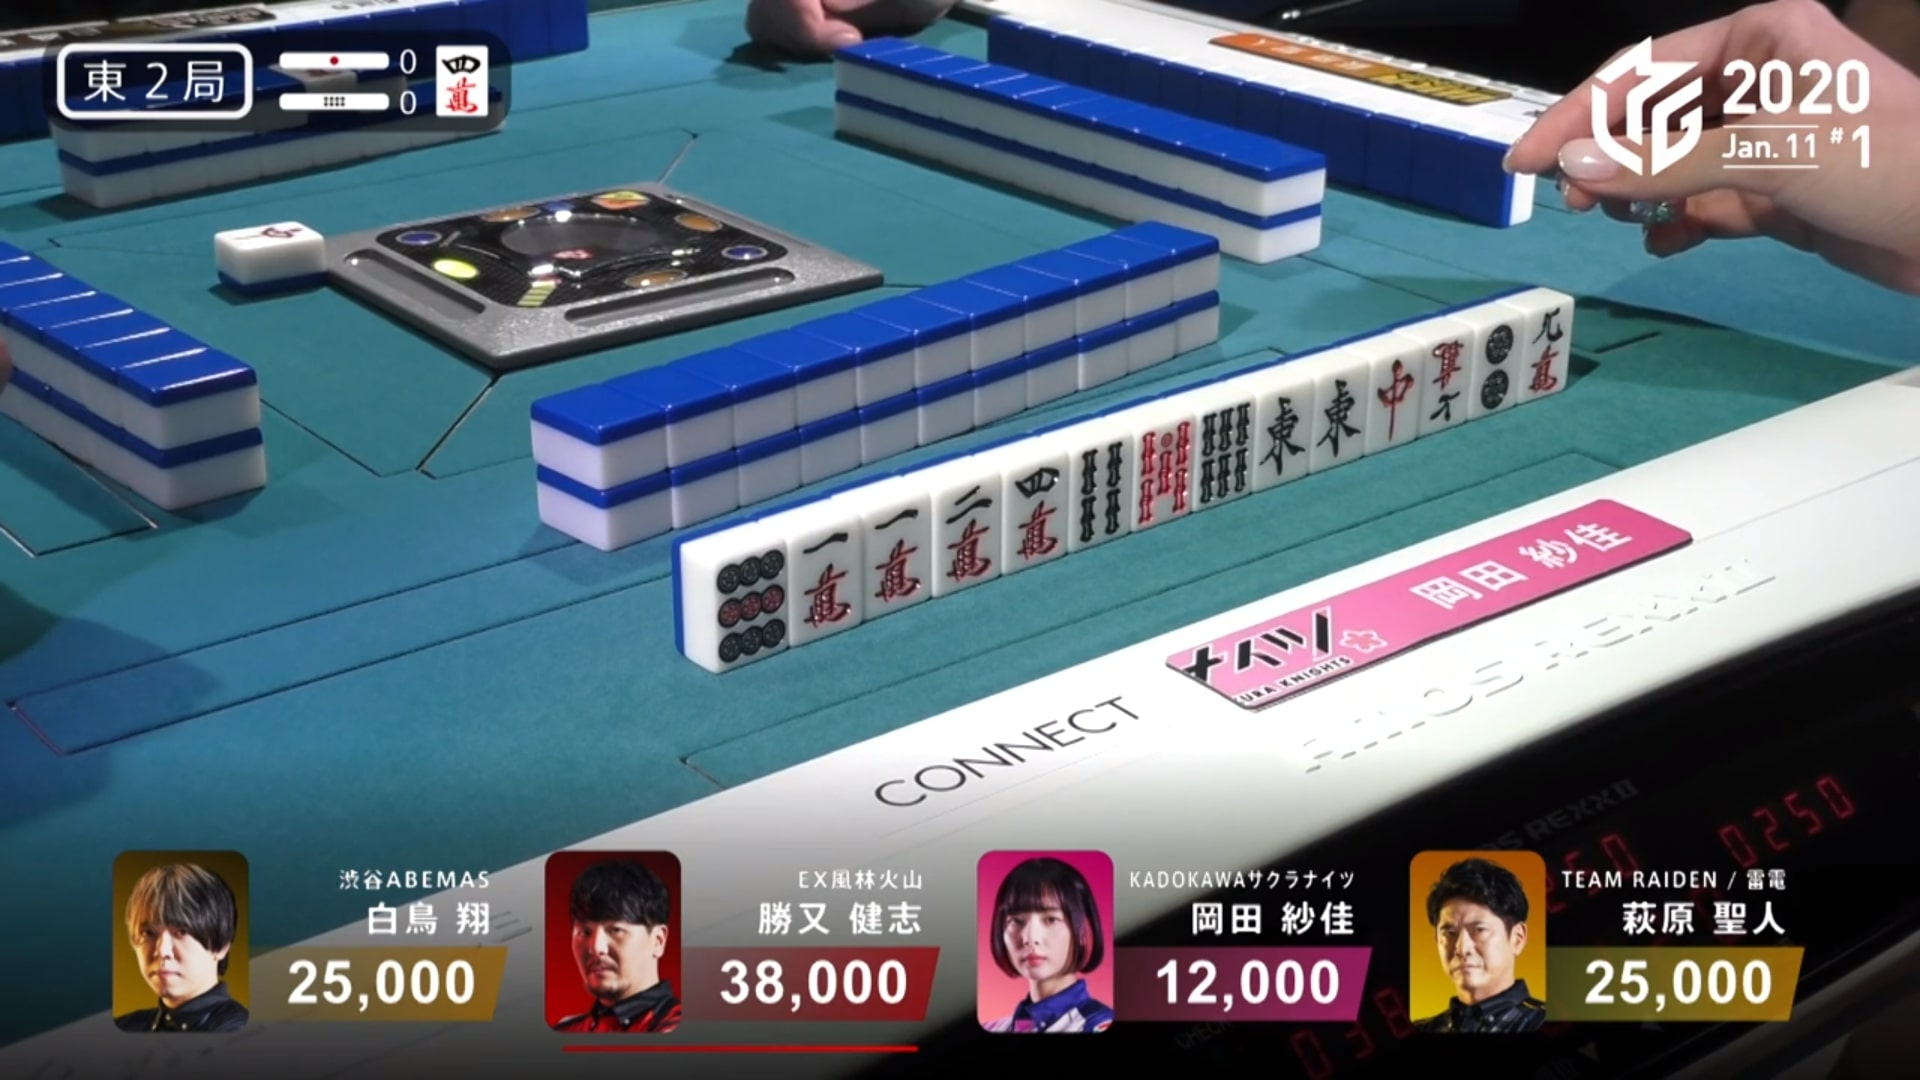1m: (793, 522, 864, 632), (865, 493, 924, 604)
2m: (935, 477, 1000, 587)
2p: (1466, 316, 1516, 410)
4m: (1000, 460, 1065, 564)
4s: (1065, 439, 1131, 546)
5sr: (1135, 417, 1189, 524)
6s: (1193, 401, 1250, 506)
7m: (1423, 328, 1466, 430)
9m: (1520, 303, 1571, 400)
9p: (705, 546, 789, 659)
chun: (1367, 349, 1415, 447)
hand_ton_2: (50, 38, 262, 125)
round_0: (269, 87, 422, 121)
team_kadokawa: (1163, 585, 1437, 713)
ton: (1307, 364, 1365, 464), (1253, 382, 1308, 485)
